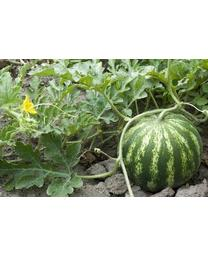watermelon: (117, 111, 202, 189)
